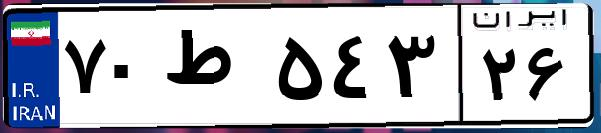0: (110, 28, 158, 98)
2: (475, 38, 525, 113)
3: (385, 28, 445, 110)
4: (330, 28, 385, 110)
5: (270, 28, 330, 110)
6: (525, 38, 570, 115)
7: (57, 26, 110, 100)
ط: (158, 20, 270, 120)
